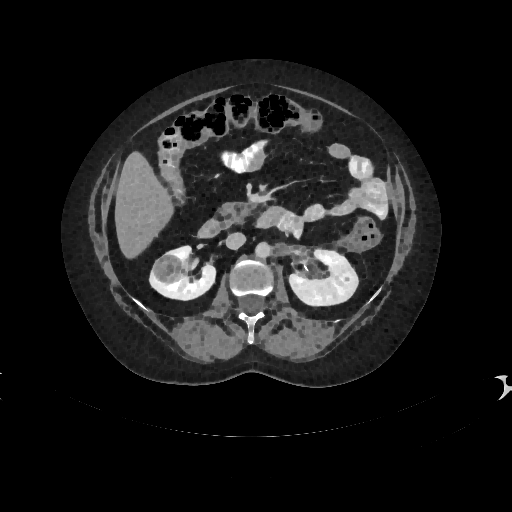Lesion: (150, 252, 185, 287)
